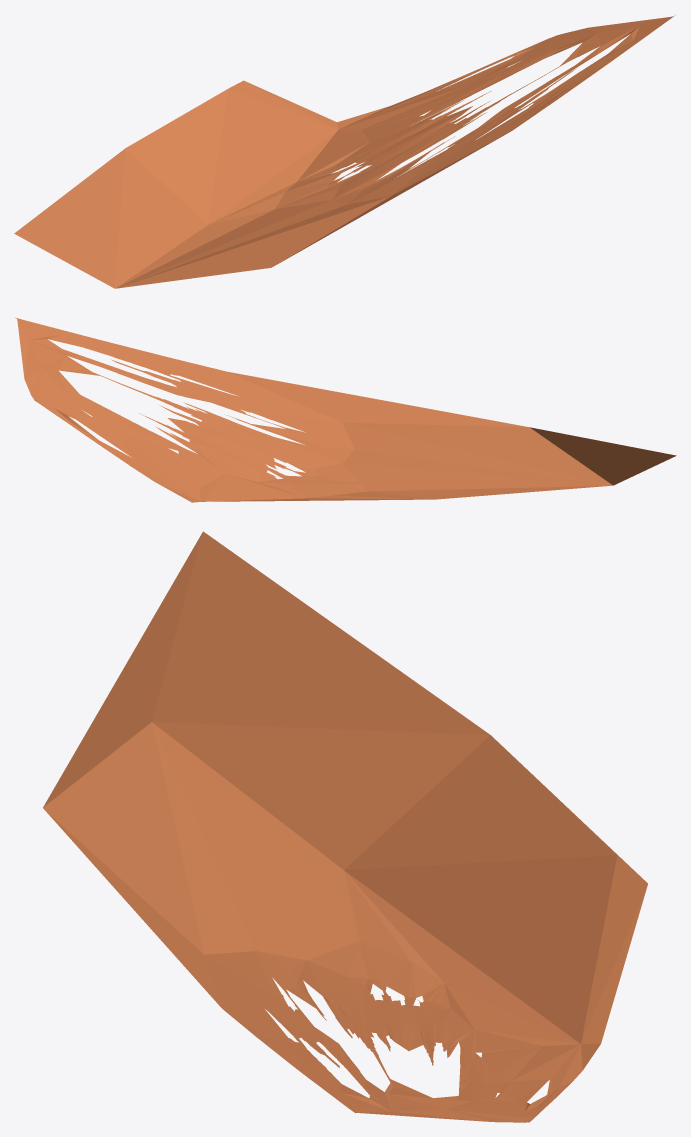
The picture shows the model from 3 angles, top to bottom: view 1: azimuth 30°, elevation 25°; view 2: azimuth 150°, elevation 25°; view 3: azimuth 270°, elevation 25°; orthographic projection. The views are drawn at different scales.
Visible parts, largest first — view 1: geometry_0; view 2: geometry_0; view 3: geometry_0.
Boxes of the visible parts, x1,y1,x2,y2 form: geometry_0: [14, 15, 675, 288]; geometry_0: [15, 317, 676, 502]; geometry_0: [43, 531, 647, 1122].
Bounding box in the file's own units: 30.79 × 4.15 × 12.92.
